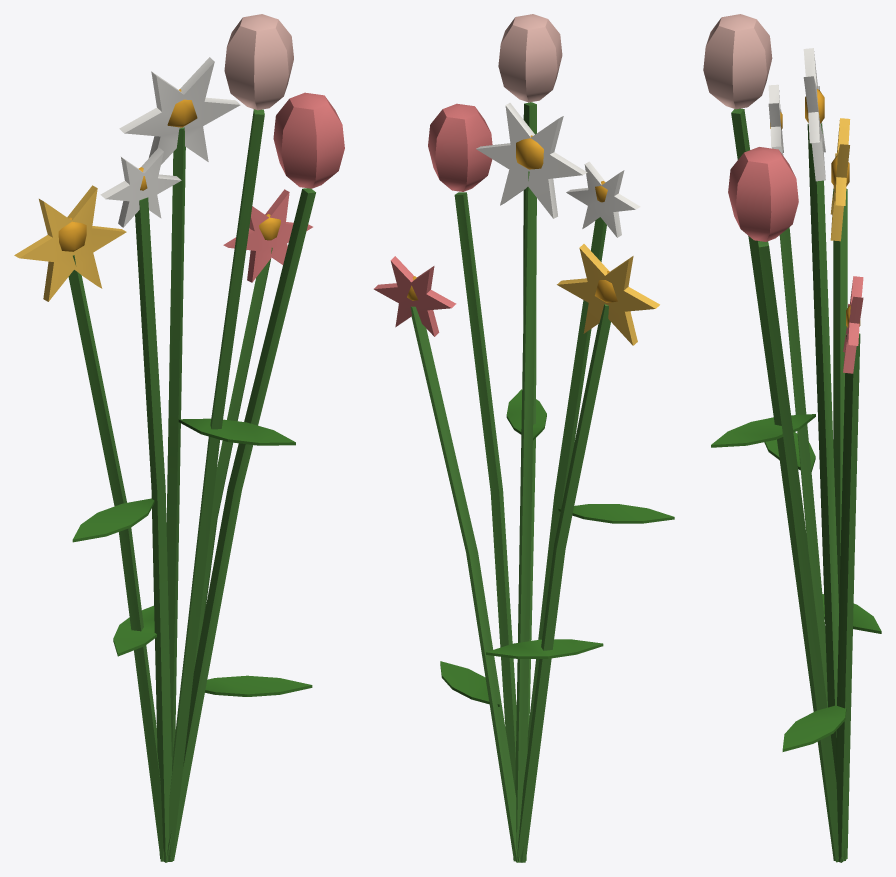
Rendered from cutFlowers.glb.
3 renders of one model, left to right at view 1: azimuth 30°, elevation 25°; view 2: azimuth 150°, elevation 25°; view 3: azimuth 270°, elevation 25°, orthographic. The views are drawn at different scales.
Visible parts, largest first — view 1: cutFlowers; view 2: cutFlowers; view 3: cutFlowers.
Part boxes in pixels (box(x1,y1,x2,y2)): cutFlowers: box(14, 14, 344, 862); cutFlowers: box(373, 14, 674, 862); cutFlowers: box(703, 14, 881, 862).
Size of the model in its own units: 0.134 by 0.3705 by 0.0695.
